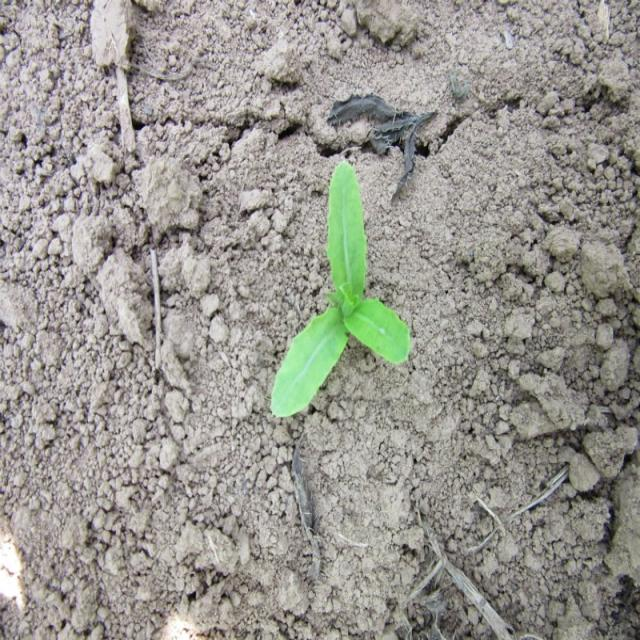field_thistle: (237, 144, 416, 412)
